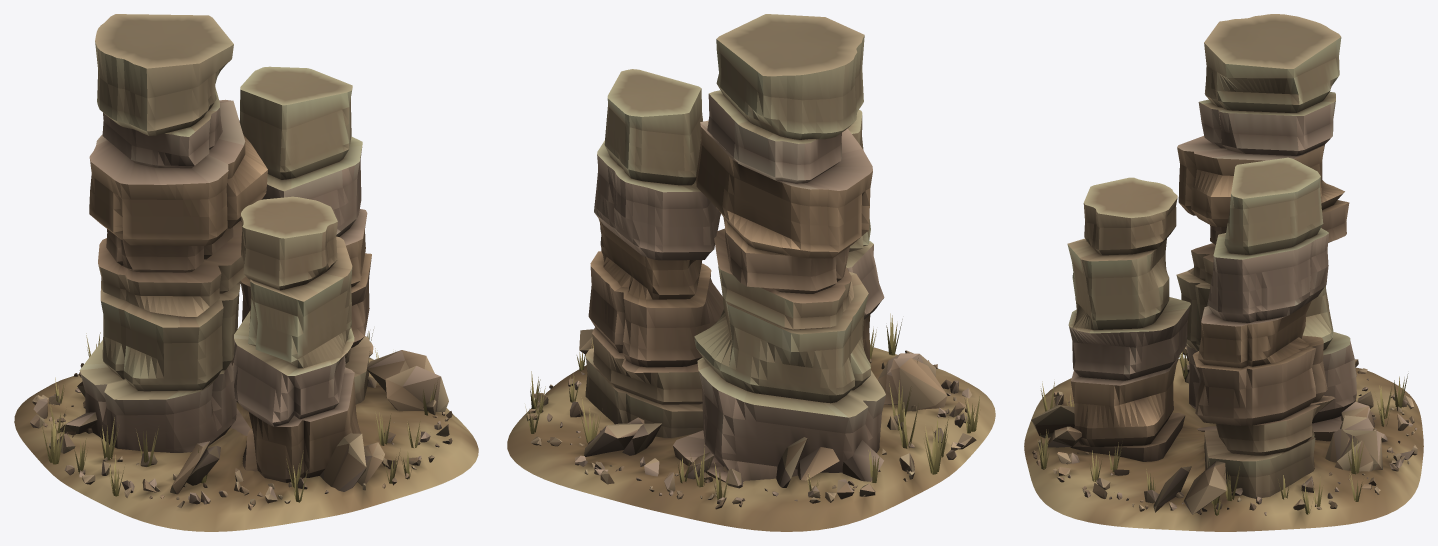
The model's file is crumbly-rock.glb.
The picture shows the model from 3 angles, left to right: view 1: azimuth 30°, elevation 25°; view 2: azimuth 150°, elevation 25°; view 3: azimuth 270°, elevation 25°; orthographic projection. The views are drawn at different scales.
Parts seen in each view (by area): view 1: crumbly-rock; view 2: crumbly-rock; view 3: crumbly-rock.
Boxes of the visible parts, x1,y1,x2,y2 form: crumbly-rock: (14, 14, 478, 531); crumbly-rock: (507, 14, 995, 531); crumbly-rock: (1024, 14, 1423, 531).
Size of the model in its own units: 0.9969 by 1 by 0.9595.
